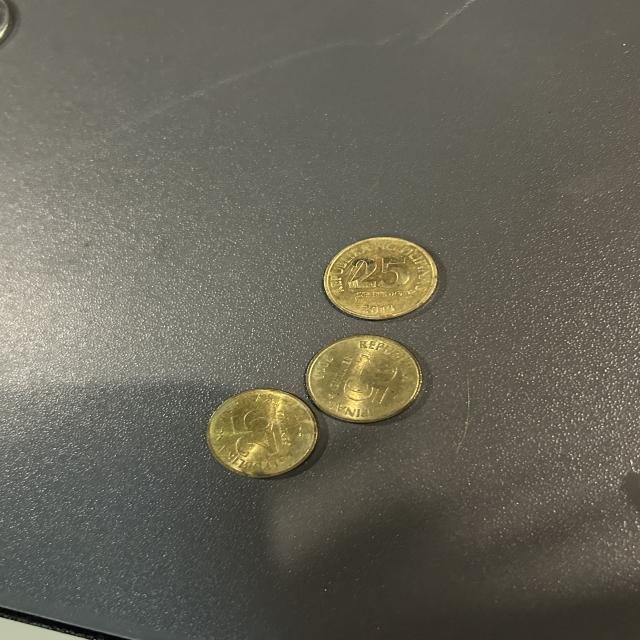25Cent_Old_Front: (342, 249, 413, 304), (221, 408, 290, 462)
